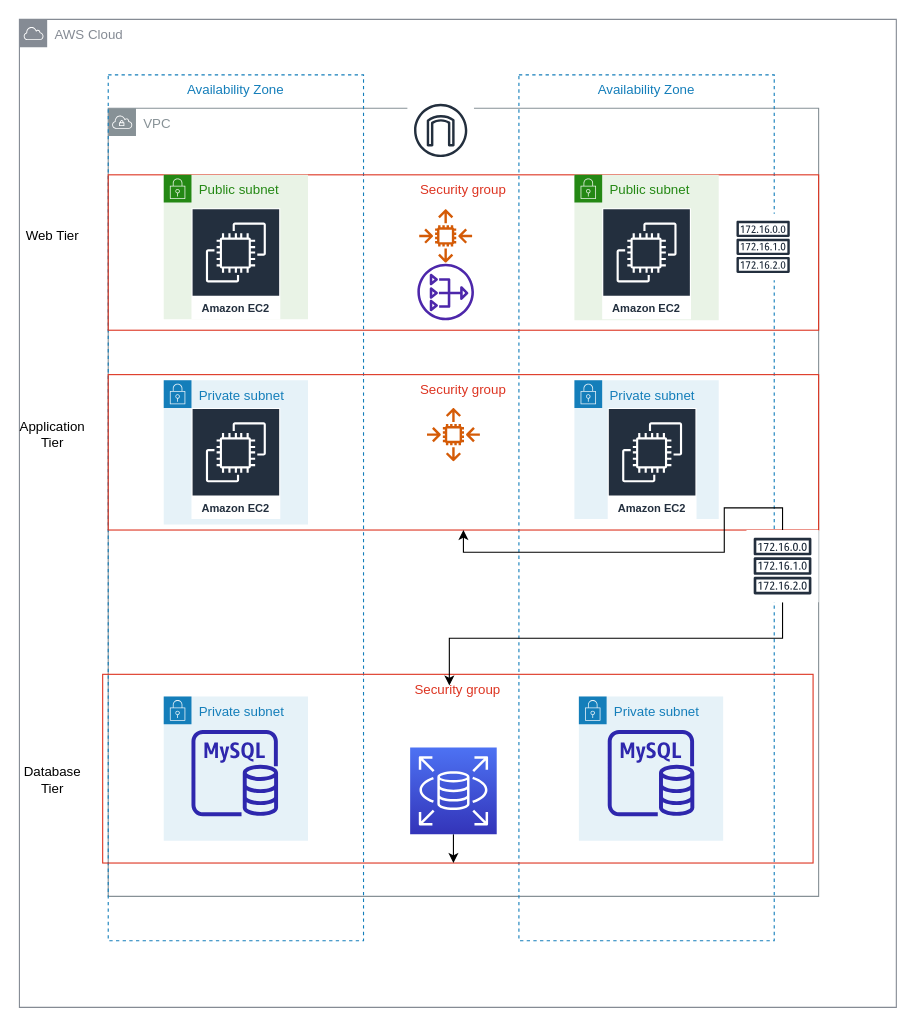
Some shapes in this 916 by 1027 pixel diagram are drawn without their labels. The centre of each missing label's shape, as x and y in pixels:
Private Route table: [782,565]
Route table: [762,246]
